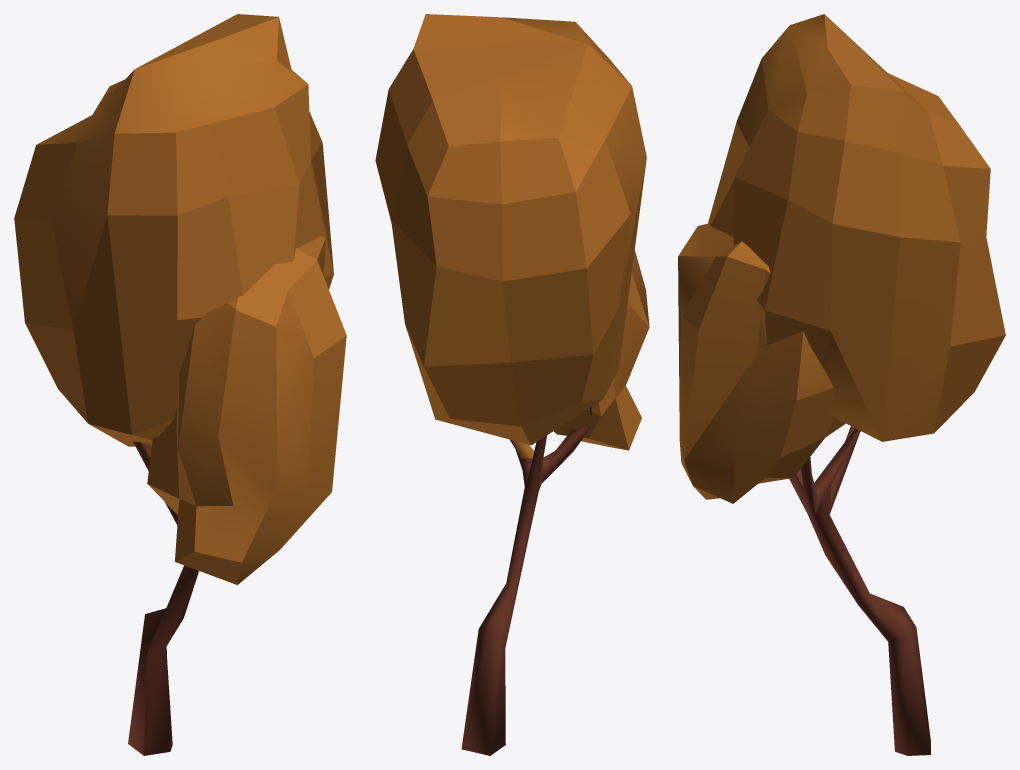
Rendered from BIRCH_TREE_v3.fbx.
The picture shows the model from 3 angles, left to right: view 1: azimuth 30°, elevation 25°; view 2: azimuth 150°, elevation 25°; view 3: azimuth 270°, elevation 25°; orthographic projection. The views are drawn at different scales.
Visible parts, largest first — view 1: Birch_Tree_Autumn; view 2: Birch_Tree_Autumn; view 3: Birch_Tree_Autumn.
Part boxes in pixels (x1,y1,x2,y2): Birch_Tree_Autumn: [14, 14, 346, 755]; Birch_Tree_Autumn: [375, 14, 649, 755]; Birch_Tree_Autumn: [678, 14, 1005, 755].
Bounding box in the file's own units: 147 × 402 × 168.
